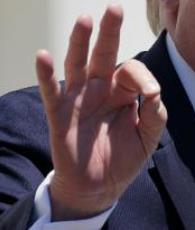left: (34, 2, 170, 197)
